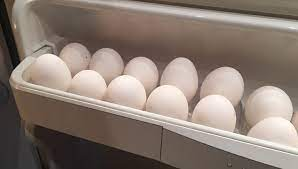eggs: (247, 77, 298, 165), (206, 56, 238, 134), (151, 55, 188, 121), (69, 42, 104, 98), (23, 46, 69, 86), (115, 56, 146, 108)
